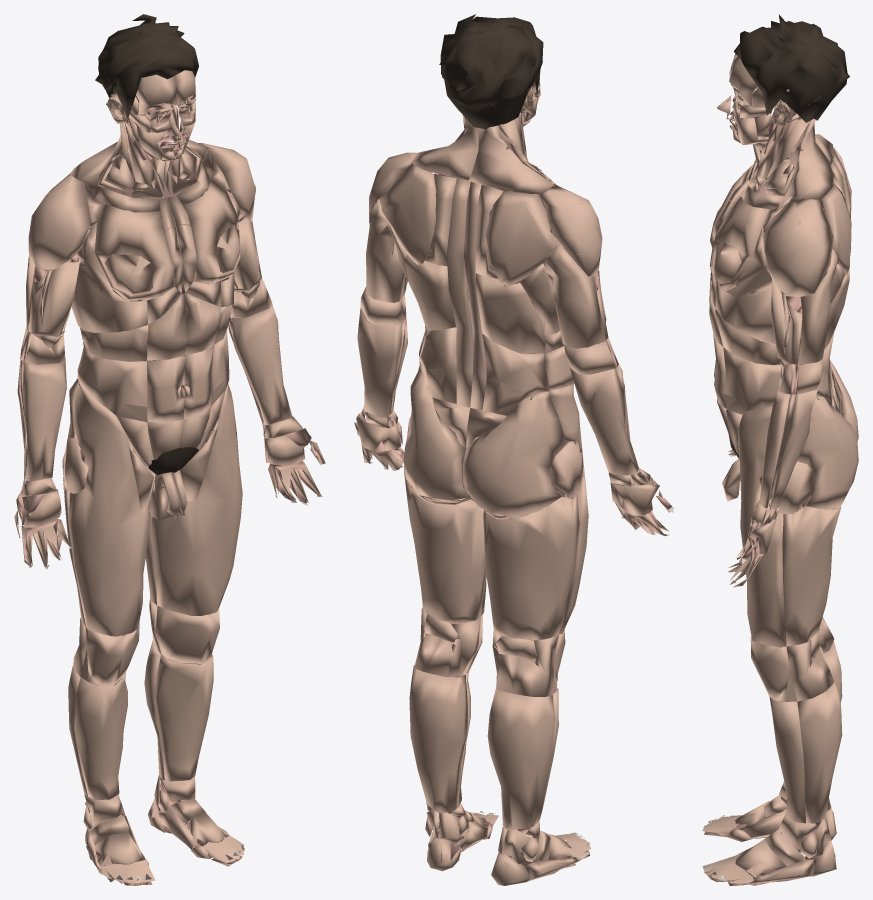
File: adult_male.surface.LOD4.glb
3 renders of one model, left to right at view 1: azimuth 30°, elevation 25°; view 2: azimuth 150°, elevation 25°; view 3: azimuth 270°, elevation 25°, orthographic. The views are drawn at different scales.
Visible parts, largest first — view 1: ADULT.MALE.SURFACE.ANTERIOR_REGION_OF_THIGH.R, ADULT.MALE.SURFACE.ANTERIOR_REGION_OF_THIGH.L, ADULT.MALE.SURFACE.ANTERIOR_REGION_OF_LEG.L, ADULT.MALE.SURFACE.HAIRS_OF_HEAD, ADULT.MALE.SURFACE.ANTERIOR_REGION_OF_LEG.R, ADULT.MALE.SURFACE.PECTORAL_REGION.R, ADULT.MALE.SURFACE.DELTOID_REGION.R, ADULT.MALE.SURFACE.ANTERIOR_REGION_OF_FOREARM.L, ADULT.MALE.SURFACE.ANTERIOR_REGION_OF_FOREARM.R, ADULT.MALE.SURFACE.LATERAL_REGION_OF_THORAX.R, ADULT.MALE.SURFACE.LATERAL_REGION_OF_ABDOMEN.R, ADULT.MALE.SURFACE.PECTORAL_REGION.L (+49 smaller); view 2: ADULT.MALE.SURFACE.POSTERIOR_REGION_OF_THIGH.R, ADULT.MALE.SURFACE.HAIRS_OF_HEAD, ADULT.MALE.SURFACE.GLUTEAL_REGION.R, ADULT.MALE.SURFACE.POSTERIOR_REGION_OF_THIGH.L, ADULT.MALE.SURFACE.POSTERIOR_REGION_OF_LEG.R, ADULT.MALE.SURFACE.POSTERIOR_REGION_OF_LEG.L, ADULT.MALE.SURFACE.GLUTEAL_REGION.L, ADULT.MALE.SURFACE.SCAPULAR_REGION.R, ADULT.MALE.SURFACE.INFRASCAPULAR_REGION.R, ADULT.MALE.SURFACE.POSTERIOR_REGION_OF_ARM.R, ADULT.MALE.SURFACE.POSTERIOR_REGION_OF_FOREARM.R, ADULT.MALE.SURFACE.VERTEBRAL_REGION.L (+32 smaller); view 3: ADULT.MALE.SURFACE.HAIRS_OF_HEAD, ADULT.MALE.SURFACE.ANTERIOR_REGION_OF_THIGH.L, ADULT.MALE.SURFACE.POSTERIOR_REGION_OF_THIGH.L, ADULT.MALE.SURFACE.DELTOID_REGION.L, ADULT.MALE.SURFACE.GLUTEAL_REGION.L, ADULT.MALE.SURFACE.POSTERIOR_REGION_OF_LEG.L, ADULT.MALE.SURFACE.LATERAL_REGION_OF_THORAX.L, ADULT.MALE.SURFACE.ANTERIOR_REGION_OF_LEG.L, ADULT.MALE.SURFACE.LATERAL_REGION_OF_ABDOMEN.L, ADULT.MALE.SURFACE.POSTERIOR_REGION_OF_ARM.L, ADULT.MALE.SURFACE.PECTORAL_REGION.L, ADULT.MALE.SURFACE.POSTERIOR_REGION_OF_NECK.L (+44 smaller).
Part boxes in pixels (x1,y1,x2,y2): ADULT.MALE.SURFACE.ANTERIOR_REGION_OF_THIGH.R: (69,379,155,636); ADULT.MALE.SURFACE.ANTERIOR_REGION_OF_THIGH.L: (151,347,242,615); ADULT.MALE.SURFACE.ANTERIOR_REGION_OF_LEG.L: (154,654,213,781); ADULT.MALE.SURFACE.HAIRS_OF_HEAD: (95,14,198,118); ADULT.MALE.SURFACE.ANTERIOR_REGION_OF_LEG.R: (75,671,127,799); ADULT.MALE.SURFACE.PECTORAL_REGION.R: (94,204,175,300); ADULT.MALE.SURFACE.DELTOID_REGION.R: (28,174,90,269); ADULT.MALE.SURFACE.ANTERIOR_REGION_OF_FOREARM.L: (229,303,292,424); ADULT.MALE.SURFACE.ANTERIOR_REGION_OF_FOREARM.R: (22,358,66,480); ADULT.MALE.SURFACE.LATERAL_REGION_OF_THORAX.R: (64,223,148,332); ADULT.MALE.SURFACE.LATERAL_REGION_OF_ABDOMEN.R: (77,341,147,421); ADULT.MALE.SURFACE.PECTORAL_REGION.L: (184,179,240,284); ADULT.MALE.SURFACE.POSTERIOR_REGION_OF_THIGH.R: (483,495,578,640); ADULT.MALE.SURFACE.HAIRS_OF_HEAD: (439,14,543,129); ADULT.MALE.SURFACE.GLUTEAL_REGION.R: (462,391,567,518); ADULT.MALE.SURFACE.POSTERIOR_REGION_OF_THIGH.L: (404,466,485,624); ADULT.MALE.SURFACE.POSTERIOR_REGION_OF_LEG.R: (487,687,554,829); ADULT.MALE.SURFACE.POSTERIOR_REGION_OF_LEG.L: (409,665,467,812); ADULT.MALE.SURFACE.GLUTEAL_REGION.L: (403,361,470,500); ADULT.MALE.SURFACE.SCAPULAR_REGION.R: (485,191,559,286); ADULT.MALE.SURFACE.INFRASCAPULAR_REGION.R: (476,273,545,353); ADULT.MALE.SURFACE.POSTERIOR_REGION_OF_ARM.R: (544,242,605,348); ADULT.MALE.SURFACE.POSTERIOR_REGION_OF_FOREARM.R: (570,367,638,475); ADULT.MALE.SURFACE.VERTEBRAL_REGION.L: (447,179,472,407); ADULT.MALE.SURFACE.HAIRS_OF_HEAD: (734,14,849,122); ADULT.MALE.SURFACE.ANTERIOR_REGION_OF_THIGH.L: (737,406,786,647); ADULT.MALE.SURFACE.POSTERIOR_REGION_OF_THIGH.L: (782,506,841,646); ADULT.MALE.SURFACE.DELTOID_REGION.L: (764,198,833,297); ADULT.MALE.SURFACE.GLUTEAL_REGION.L: (797,395,858,509); ADULT.MALE.SURFACE.POSTERIOR_REGION_OF_LEG.L: (797,681,842,823); ADULT.MALE.SURFACE.LATERAL_REGION_OF_THORAX.L: (715,229,844,343); ADULT.MALE.SURFACE.ANTERIOR_REGION_OF_LEG.L: (769,697,805,823); ADULT.MALE.SURFACE.LATERAL_REGION_OF_ABDOMEN.L: (723,347,798,414); ADULT.MALE.SURFACE.POSTERIOR_REGION_OF_ARM.L: (798,248,837,364); ADULT.MALE.SURFACE.PECTORAL_REGION.L: (710,196,768,290); ADULT.MALE.SURFACE.POSTERIOR_REGION_OF_NECK.L: (785,118,833,199).
Size of the model in its own units: 0.6798 by 1.74 by 0.2948.
